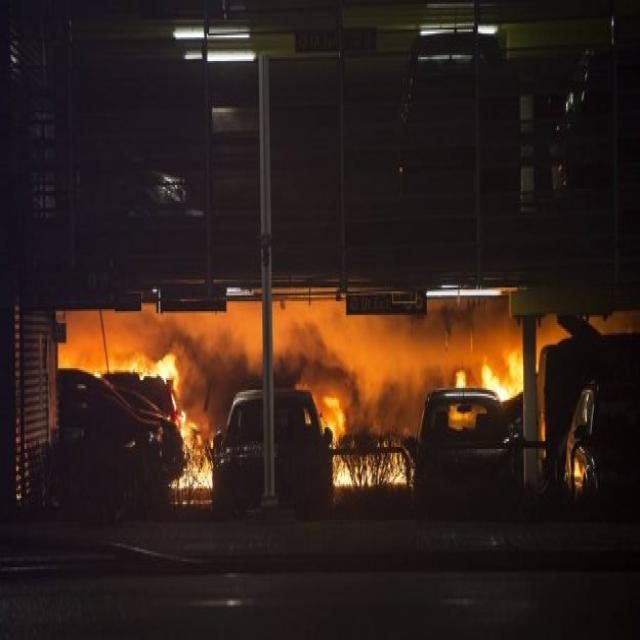Fire: (178, 411, 216, 494), (481, 346, 526, 401), (130, 352, 182, 390), (313, 391, 347, 444), (338, 466, 406, 488)
